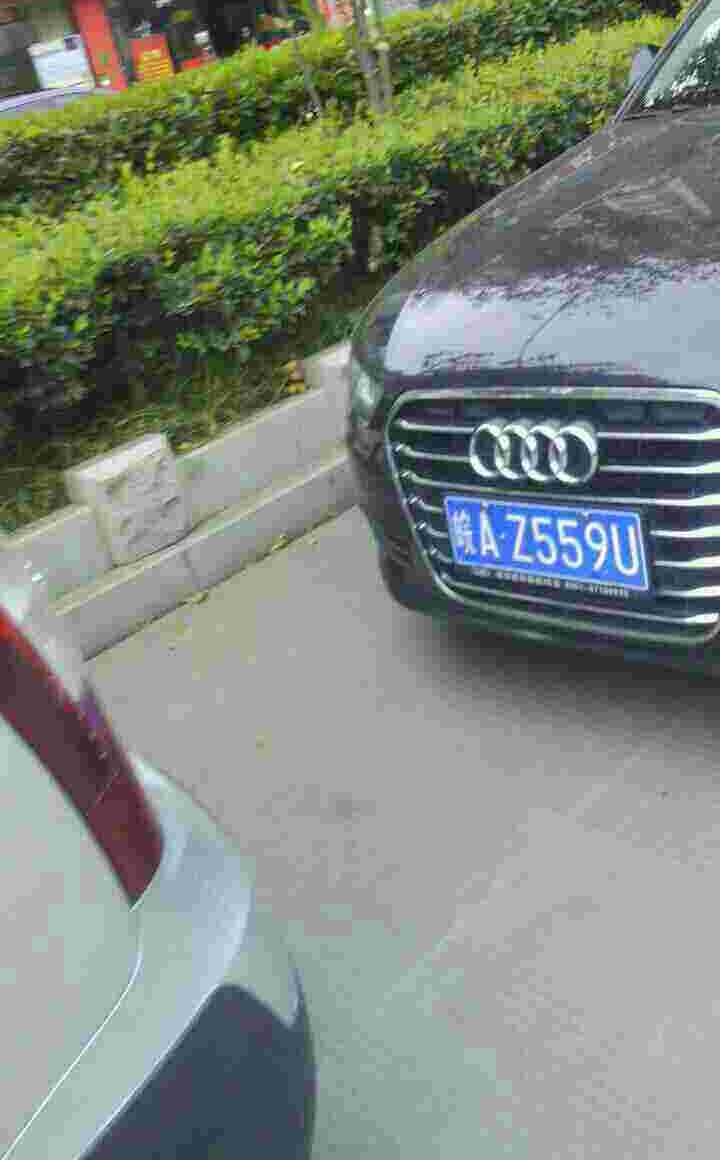plate: (437, 489, 652, 592)
